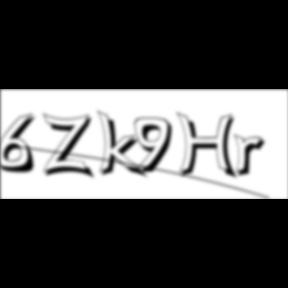6: (0, 112, 42, 176)
9: (134, 117, 180, 177)
H: (176, 112, 242, 182)
Z: (42, 112, 97, 181)
k: (98, 108, 150, 181)
r: (234, 134, 272, 180)
